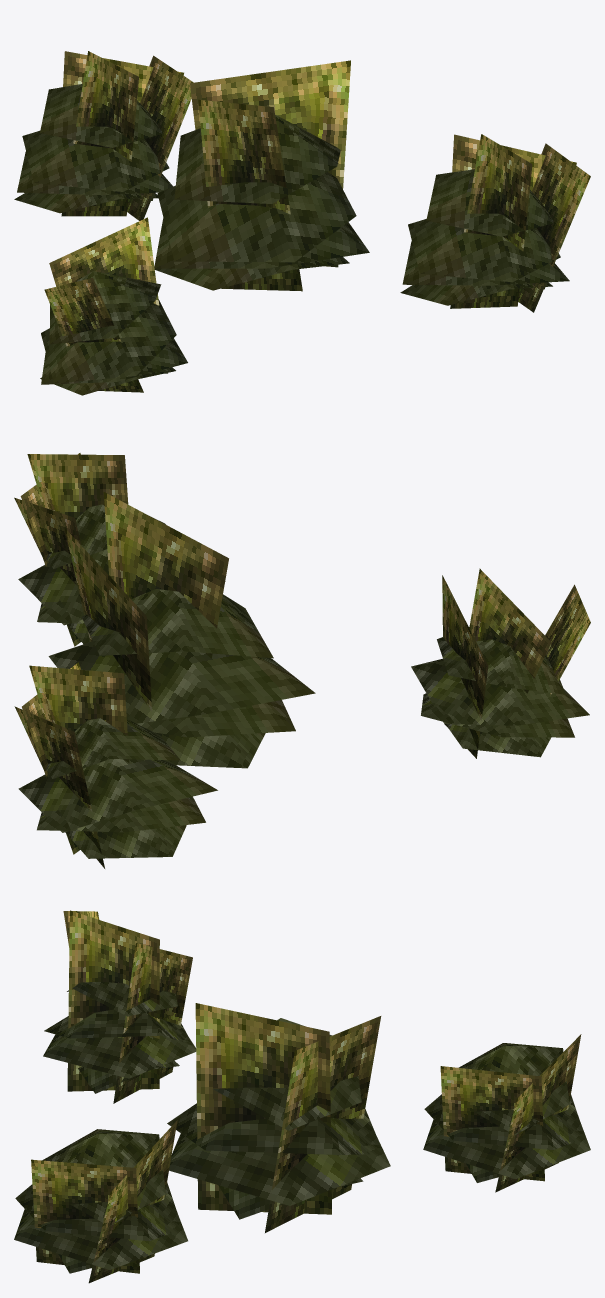
The model's file is Grass03.obj.
The picture shows the model from 3 angles, top to bottom: view 1: azimuth 30°, elevation 25°; view 2: azimuth 150°, elevation 25°; view 3: azimuth 270°, elevation 25°; orthographic projection. The views are drawn at different scales.
Visible parts, largest first — view 1: Mesh_0, Mesh_1; view 2: Mesh_0, Mesh_1; view 3: Mesh_0, Mesh_1.
Part boxes in pixels (<box>): Mesh_0: <box>14,84,569,395</box>; Mesh_1: <box>44,51,590,392</box>; Mesh_0: <box>18,504,589,858</box>; Mesh_1: <box>14,453,590,868</box>; Mesh_0: <box>14,982,590,1273</box>; Mesh_1: <box>31,910,581,1283</box>.
Bounding box in the file's own units: 3.15 × 1.34 × 2.82.
Materials: 2 (2 with a texture image).
